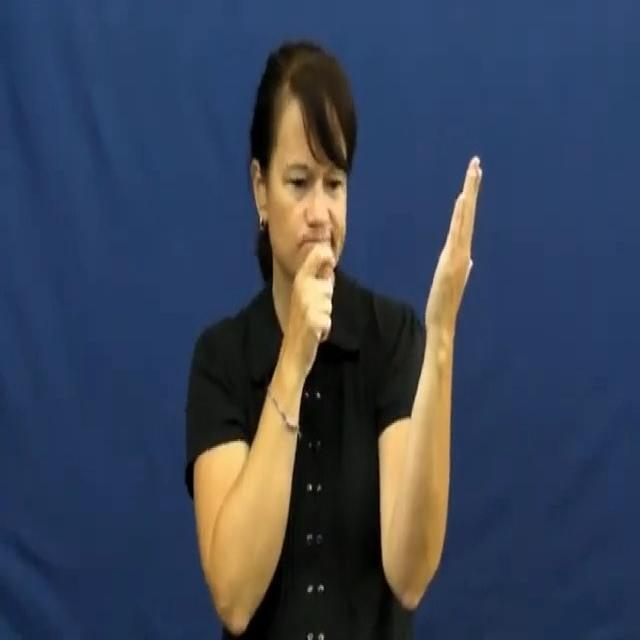menu: (283, 146, 487, 480)
